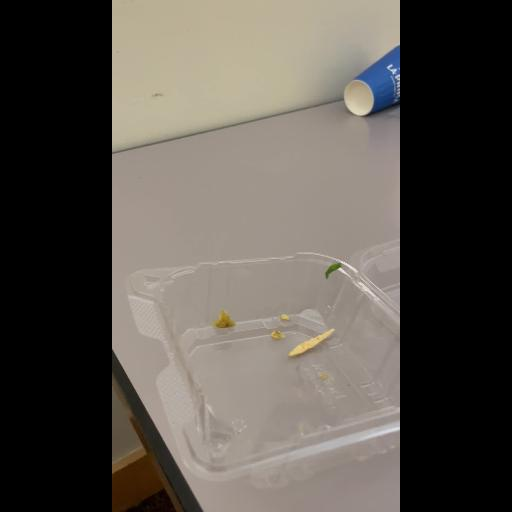small_plastic_container: (112, 232, 400, 496)
